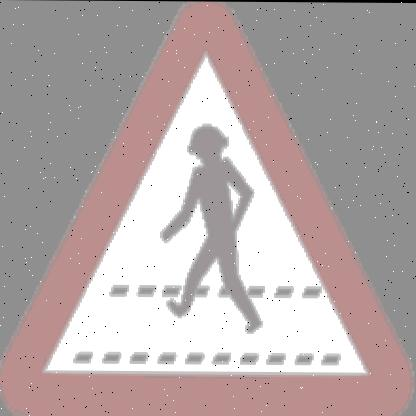Pedestrian Crossing: (25, 33, 392, 397)
